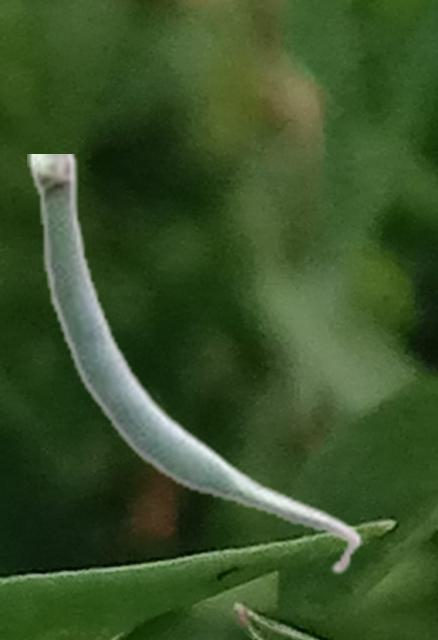french_bean: (27, 154, 362, 576)
